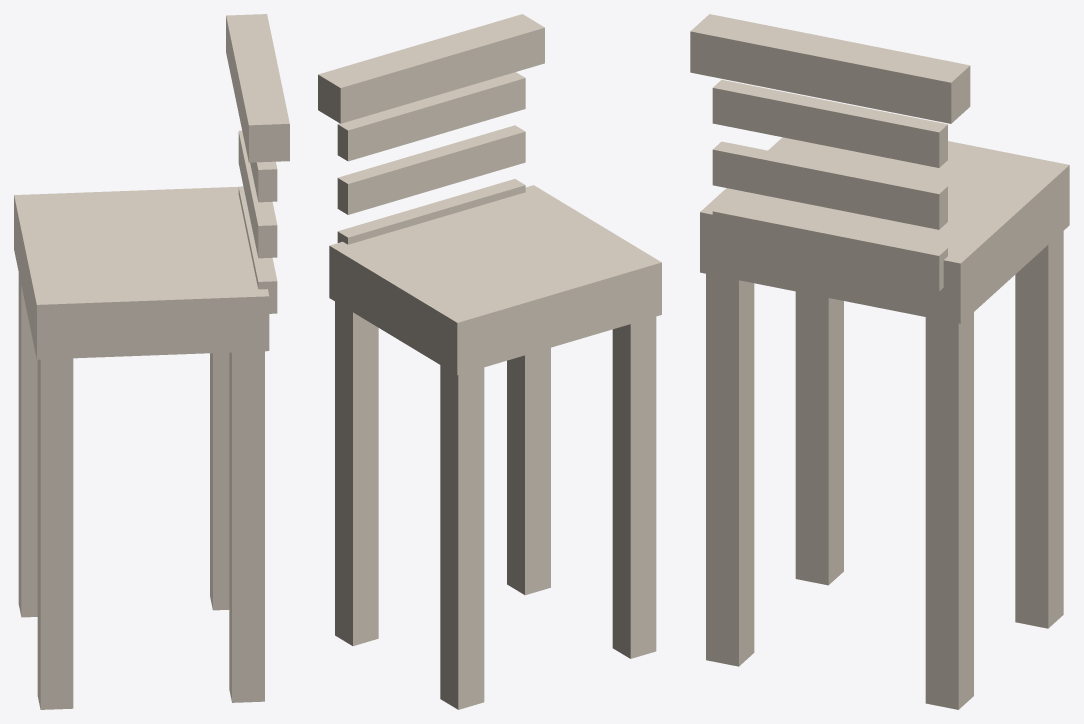
File: beso-velvet-dining-chair.glb
The picture shows the model from 3 angles, left to right: view 1: azimuth 30°, elevation 25°; view 2: azimuth 150°, elevation 25°; view 3: azimuth 270°, elevation 25°; orthographic projection. The views are drawn at different scales.
Size of the model in its own units: 24.8 by 46.5 by 25.04.
